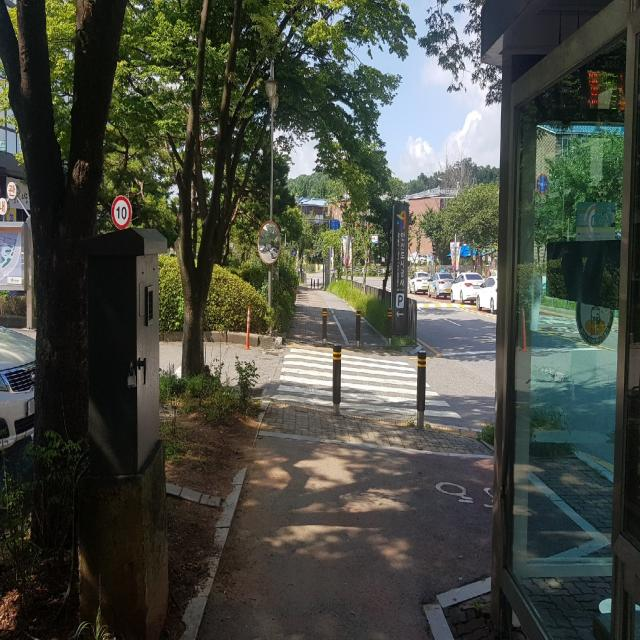횡단보도: (268, 346, 463, 420)
